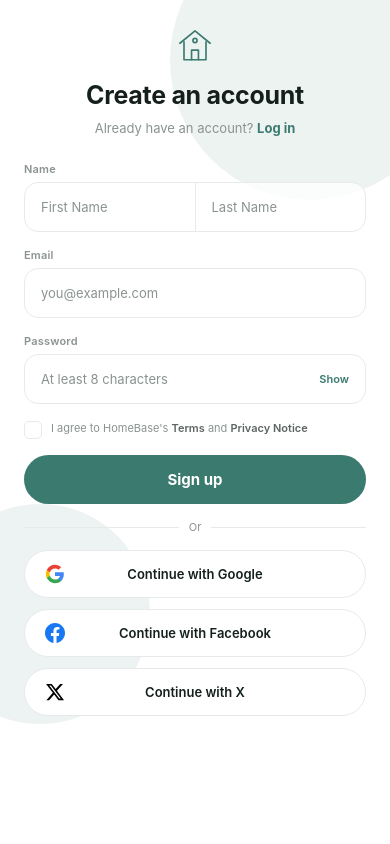
Test: SignUpScreen › shows validation error for short password
Type "Moyo" into the field with placeholder "First Name" at (110, 207), box [25, 183, 194, 231]
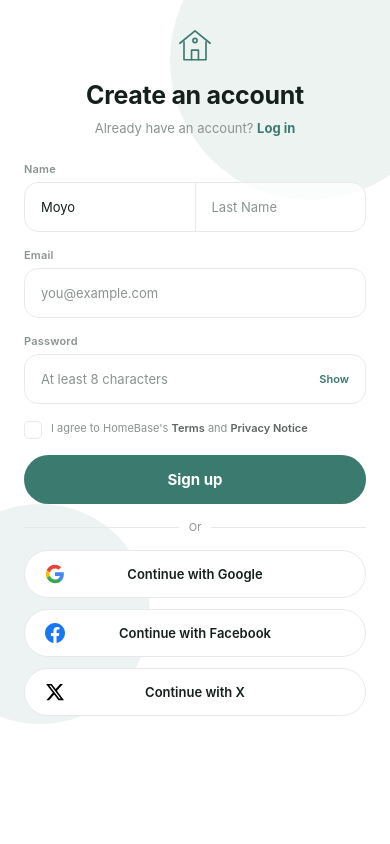
Type "Ade" into the field with placeholder "Last Name" at (280, 207), box [196, 183, 365, 231]
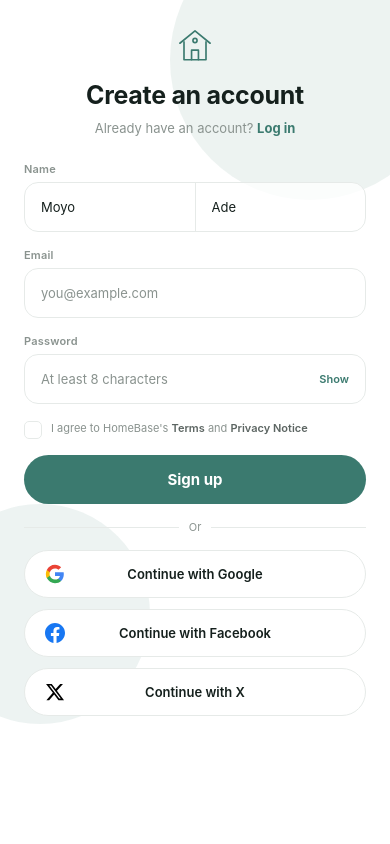
Type "a@x.com" into the field with placeholder "you@example.com" at (195, 293), box [25, 269, 365, 317]
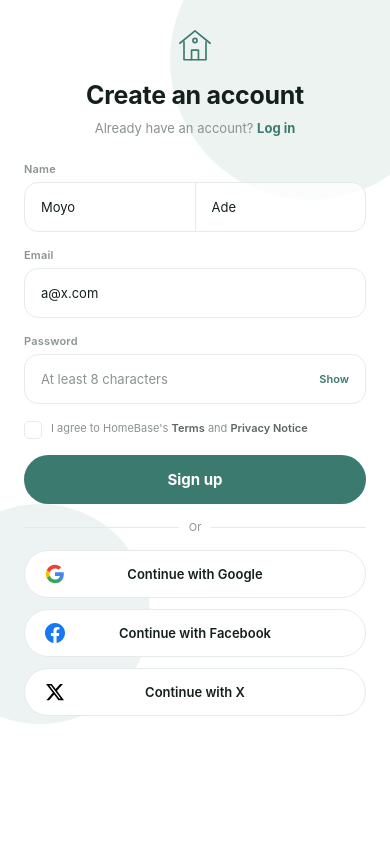
Type "123" into the password field with placeholder "At least 8 characters" at (164, 379), box [25, 355, 303, 403]
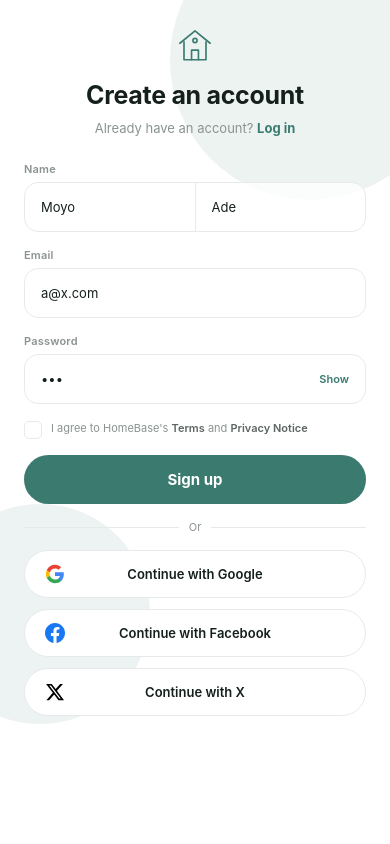
Click the button "Sign up" at (195, 480), box [24, 455, 366, 504]
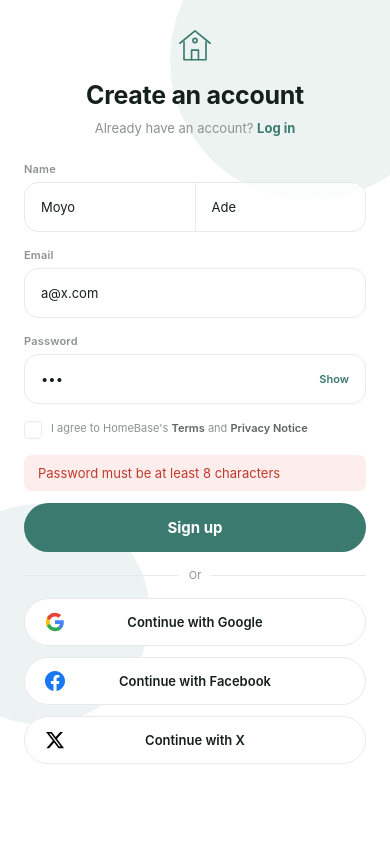
Check: the text "Password must be at least 8 characters" is shown, box [24, 455, 366, 491]
